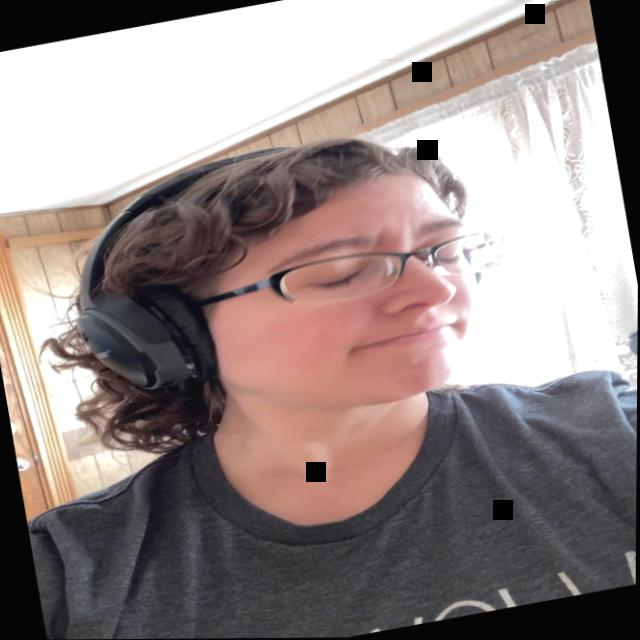NO-Mask: (172, 163, 492, 438)
